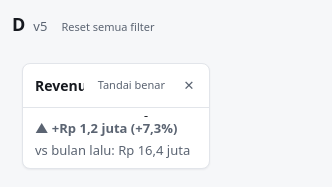
Test case: Canvas ekstensi › Tandai terverifikasi memanggil verify (Req 34.2)
This screenshot has width=332, height=187.
What coordinates should you click on to do the following:
click the button with aria-label "Tandai terverifikasi Revenue"
I would click on:
 (131, 86)
Its box is [92, 72, 171, 100].
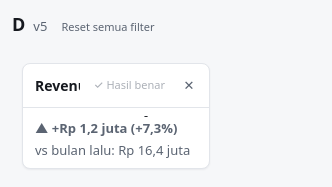
Check: the button "✓ Hasil benar" is shown, box [88, 72, 171, 100]
